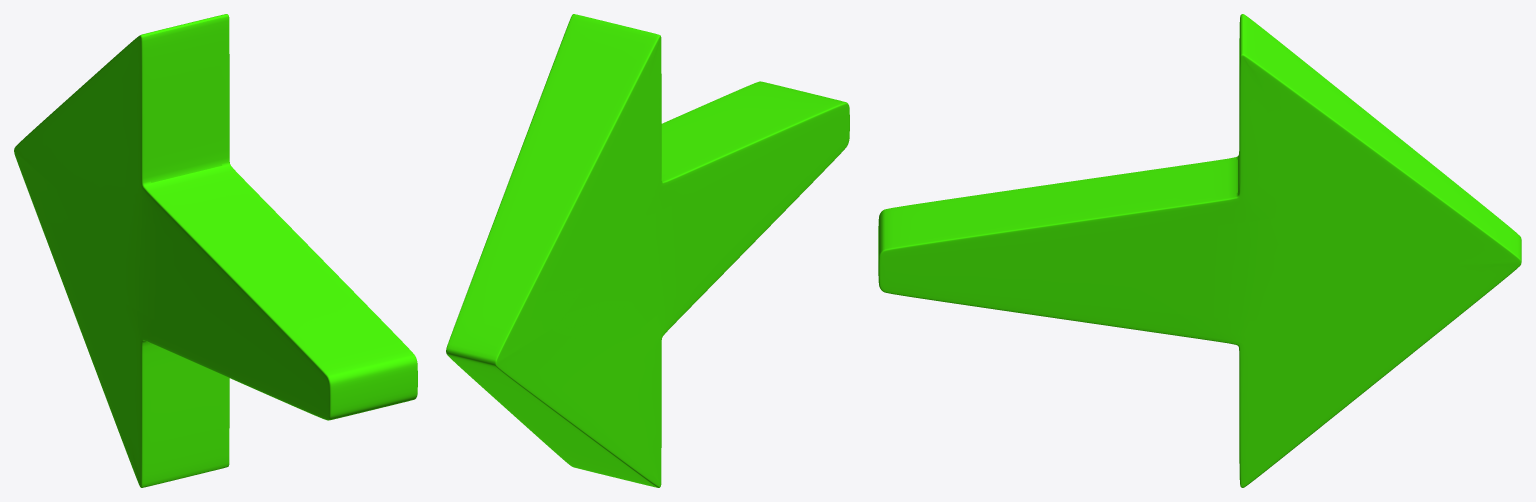
The model's file is Arrow.glb.
3 renders of one model, left to right at view 1: azimuth 30°, elevation 25°; view 2: azimuth 150°, elevation 25°; view 3: azimuth 270°, elevation 25°, orthographic. The views are drawn at different scales.
Visible parts, largest first — view 1: arrow 1; view 2: arrow 1; view 3: arrow 1.
Boxes of the visible parts, x1,y1,x2,y2 form: arrow 1: (14, 14, 417, 487); arrow 1: (446, 14, 849, 487); arrow 1: (878, 14, 1521, 487).
Bounding box in the file's own units: 0.109 × 0.5339 × 0.717.
